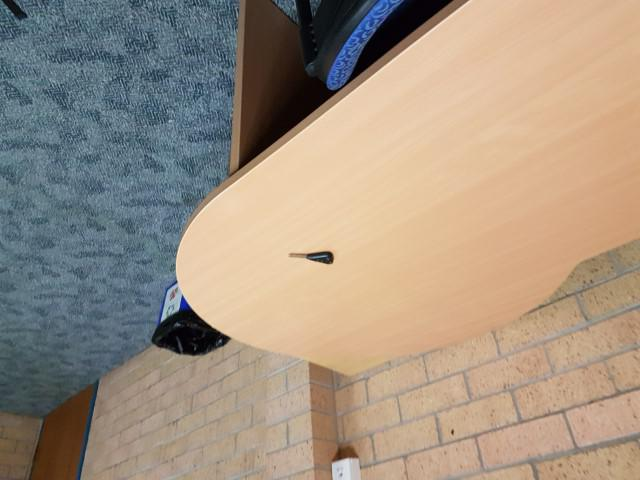key: (284, 249, 338, 266)
